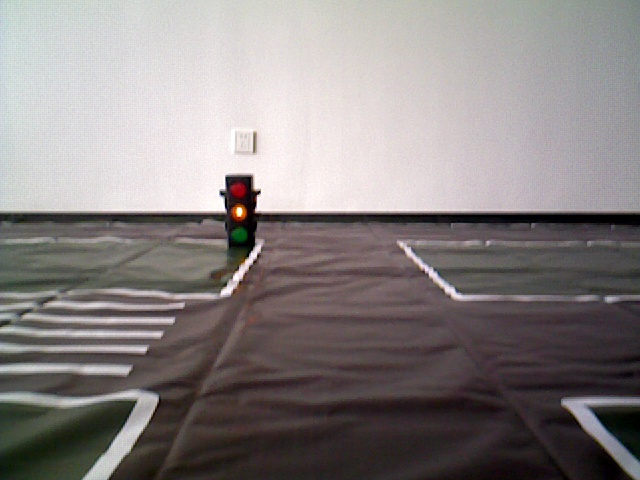yellow: (220, 174, 256, 247)
